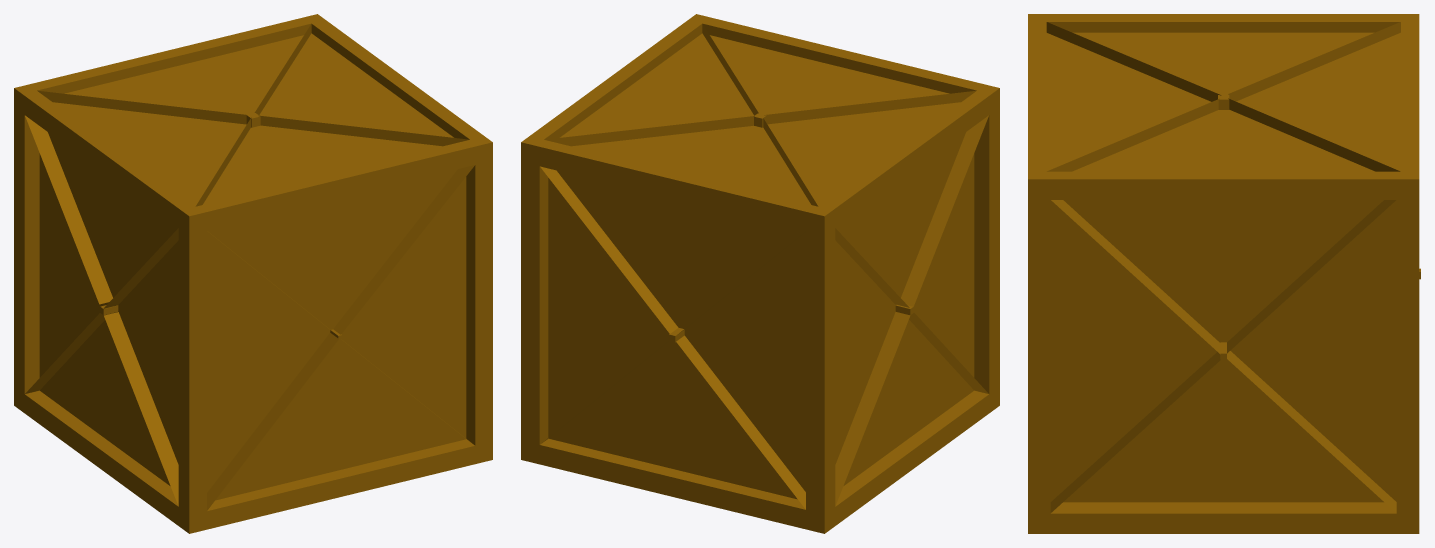
The model's file is Crate.fbx.
The picture shows the model from 3 angles, left to right: view 1: azimuth 30°, elevation 25°; view 2: azimuth 150°, elevation 25°; view 3: azimuth 270°, elevation 25°; orthographic projection. The views are drawn at different scales.
Visible parts, largest first — view 1: Cube; view 2: Cube; view 3: Cube.
Boxes of the visible parts, left/top/right/bottom form: Cube: left=14, top=14, right=492, bottom=533; Cube: left=521, top=14, right=999, bottom=533; Cube: left=1028, top=14, right=1420, bottom=533.
Size of the model in its own units: 200 by 200 by 201.
